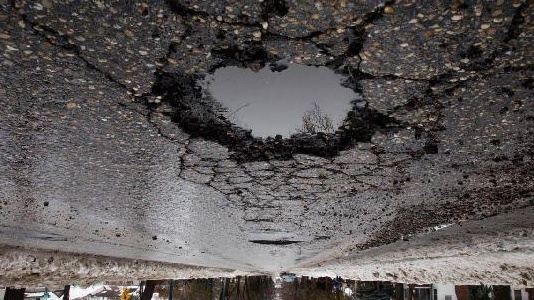pothole: (142, 40, 400, 167), (250, 238, 300, 248)
